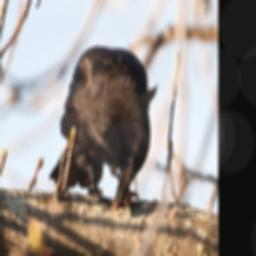Crow: (47, 44, 161, 211)
